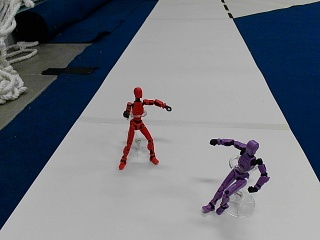pedestrian: (201, 136, 269, 214), (118, 87, 171, 168)
